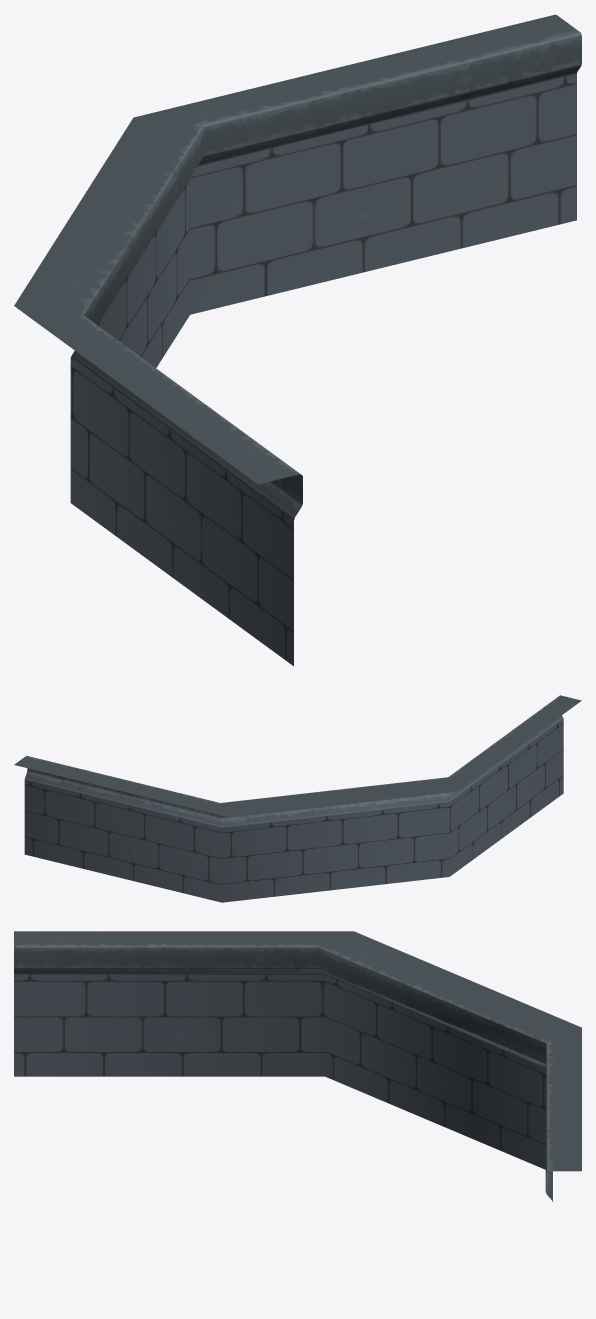
The model's file is Skirt_Beveled.fbx.
3 views of the same model, one above another, from view 1: azimuth 30°, elevation 25°; view 2: azimuth 150°, elevation 25°; view 3: azimuth 270°, elevation 25° (orthographic). The views are drawn at different scales.
Parts seen in each view (by area): view 1: Skirt_Beveled; view 2: Skirt_Beveled; view 3: Skirt_Beveled.
Part boxes in pixels (left/top/right/bottom): Skirt_Beveled: left=14, top=14, right=581, bottom=666; Skirt_Beveled: left=14, top=695, right=581, bottom=902; Skirt_Beveled: left=14, top=931, right=581, bottom=1201.
Bounding box in the file's own units: 500 × 129 × 500.
Materials: 1 (1 with a texture image).
